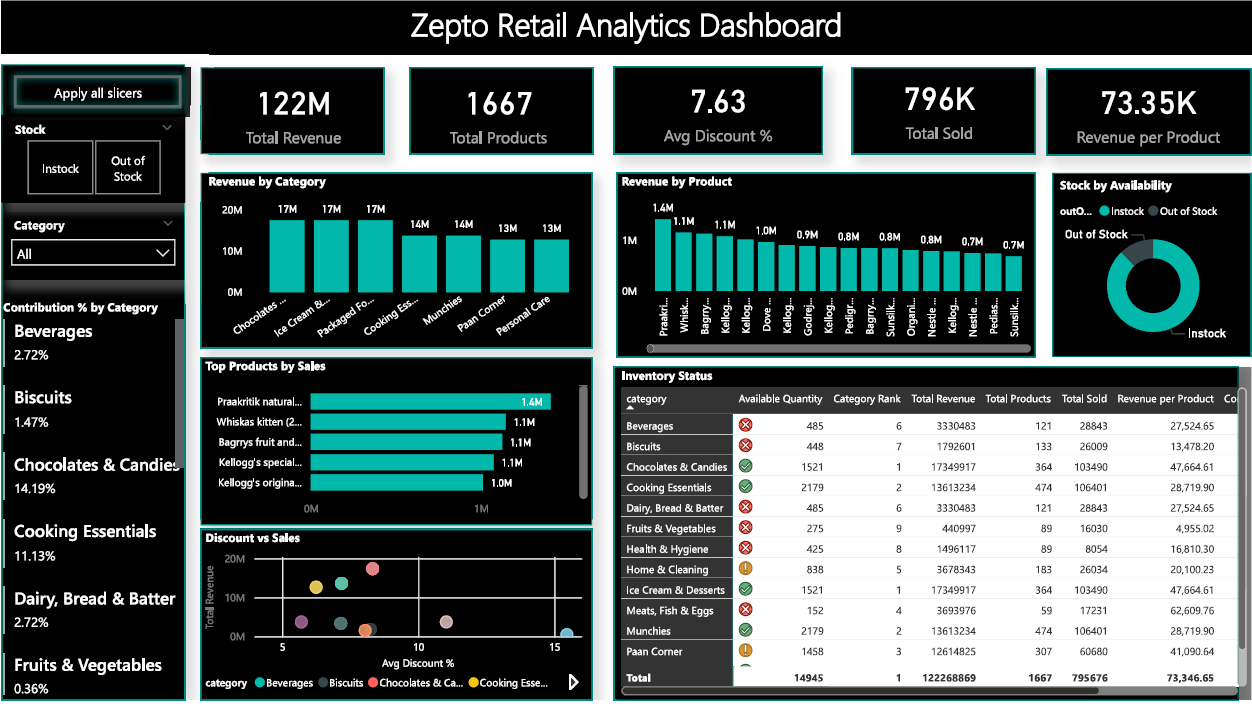

This screenshot's page, from the dashboard's own definition file:
{"tool":"powerbi","page":{"name":"Dashboard","canvas":[1280,720],"ordinal":0},"visuals":[{"type":"shape","box":[1076,180,204,189],"z":0},{"type":"textbox","box":[0,0,1280.3,59],"z":1000},{"type":"shape","box":[0,68.6,188,651.8],"z":2000},{"type":"shape","box":[204.5,71.8,188,89.2],"z":3000},{"type":"shape","box":[417.8,71.8,188,89.2],"z":4000},{"type":"shape","box":[627.1,71.4,214.1,89.2],"z":5000},{"type":"shape","box":[870.7,71.8,188,89.2],"z":6000},{"type":"shape","box":[1070,73,210,89],"z":7000},{"type":"shape","box":[204.5,179.8,400.7,179.8],"z":8000},{"type":"shape","box":[204.5,369.1,400.7,171.5],"z":9000},{"type":"shape","box":[204.5,544.8,400.7,175.6],"z":10000},{"type":"shape","box":[627.1,378.7,639.5,341.7],"z":11000},{"type":"card","fields":{"Values":["Calculations.Total Revenue"]},"box":[207.2,72.7,183.9,87.8],"z":12000},{"type":"card","fields":{"Values":["Calculations.Total Products"]},"box":[417.2,72.7,183.9,87.8],"z":13000},{"type":"card","fields":{"Values":["Calculations.Avg Discount %"]},"box":[627.1,71.4,214.1,87.8],"z":14000},{"type":"card","fields":{"Values":["Calculations.Total Sold"]},"box":[861.8,68.6,197.6,87.8],"z":15000},{"type":"clusteredColumnChart","title":"Revenue by Category","fields":{"Y":["Calculations.Total Revenue"],"Category":["Zepto_Analysis.category"]},"box":[207.2,179.8,397.9,179.8],"z":16000},{"type":"clusteredBarChart","title":"Top Products by Sales","fields":{"Category":["Zepto_Analysis.name"],"Y":["Calculations.Total Revenue"]},"box":[204.5,369.1,400.7,171.5],"z":17000},{"type":"scatterChart","title":"Discount vs Sales","fields":{"Y":["Calculations.Total Revenue"],"Series":["Zepto_Analysis.category"],"Category":["Zepto_Analysis.category"],"X":["Calculations.Avg Discount %"]},"box":[204.5,544.8,400.7,175.6],"z":18000},{"type":"pivotTable","title":"Inventory Status","fields":{"Rows":["Zepto_Analysis.category","Zepto_Analysis.name"],"Values":["Sum(Zepto_Analysis.availableQuantity)","Calculations.Category Rank","Calculations.Total Revenue","Calculations.Total Products","Calculations.Total Sold","Calculations.Revenue per Product","Calculations.Contribution %","Calculations.Avg Discount %"]},"box":[629.8,378.7,650.4,341.7],"z":19000},{"type":"actionButton","box":[5,72.1,187.8,49.8],"z":20000},{"type":"donutChart","title":"Stock by Availability","fields":{"Category":["Zepto_Analysis.outOfStock"],"Y":["CountNonNull(Zepto_Analysis.outOfStock)"],"Series":["Zepto_Analysis.outOfStock"]},"box":[1079,184,201,180],"z":21000},{"type":"slicer","fields":{"Values":["Zepto_Analysis.category"]},"box":[0,219.6,188,70],"z":22000},{"type":"card","fields":{"Values":["Calculations.Revenue per Product"]},"box":[1069,73,211,87],"z":23000},{"type":"shape","box":[629.8,179.8,429.5,189.4],"z":24000},{"type":"slicer","title":"Stock","fields":{"Values":["Zepto_Analysis.outOfStock"]},"box":[0,120.8,188,89.2],"z":25000},{"type":"clusteredColumnChart","title":"Revenue by Product","fields":{"Category":["Zepto_Analysis.name"],"Y":["Calculations.Total Revenue"]},"box":[629.8,179.8,429.5,189.4],"z":26000},{"type":"multiRowCard","title":"Contribution % by Category","fields":{"Values":["Zepto_Analysis.category","Calculations.Contribution %"]},"box":[0,308.5,187.8,410],"z":27000}]}

Visuals, with their boxes in screenshot pixels (x1, y1, x2, y2), scaled from the page's 1280x720 canvas onto the 1252x706 screenshot:
shape: box=[1052, 176, 1251, 362]
textbox: box=[0, 0, 1251, 58]
shape: box=[0, 67, 184, 705]
shape: box=[200, 70, 384, 158]
shape: box=[409, 70, 593, 158]
shape: box=[613, 70, 823, 157]
shape: box=[852, 70, 1036, 158]
shape: box=[1047, 72, 1251, 159]
shape: box=[200, 176, 592, 353]
shape: box=[200, 362, 592, 530]
shape: box=[200, 534, 592, 705]
shape: box=[613, 371, 1239, 705]
card - Calculations.Total Revenue: box=[203, 71, 383, 157]
card - Calculations.Total Products: box=[408, 71, 588, 157]
card - Calculations.Avg Discount %: box=[613, 70, 823, 156]
card - Calculations.Total Sold: box=[843, 67, 1036, 153]
"Revenue by Category" clusteredColumnChart: box=[203, 176, 592, 353]
"Top Products by Sales" clusteredBarChart: box=[200, 362, 592, 530]
"Discount vs Sales" scatterChart: box=[200, 534, 592, 705]
"Inventory Status" pivotTable: box=[616, 371, 1251, 705]
actionButton: box=[5, 71, 189, 120]
"Stock by Availability" donutChart: box=[1055, 180, 1251, 357]
slicer - Zepto_Analysis.category: box=[0, 215, 184, 284]
card - Calculations.Revenue per Product: box=[1046, 72, 1251, 157]
shape: box=[616, 176, 1036, 362]
"Stock" slicer: box=[0, 118, 184, 206]
"Revenue by Product" clusteredColumnChart: box=[616, 176, 1036, 362]
"Contribution % by Category" multiRowCard: box=[0, 303, 184, 705]
